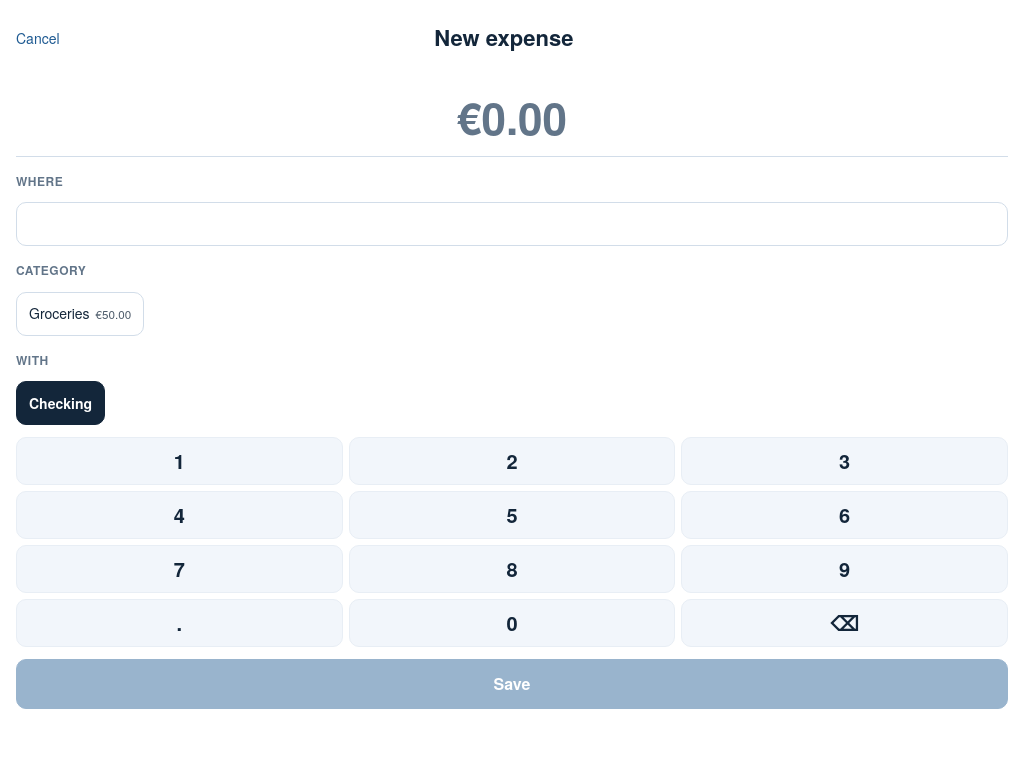
Test: QuickEntryOverlay (#367) › includes the payee when one is given
Expected: the heading "New expense" is shown, [434, 22, 573, 54]
Type "Supermarket" into the field named "Where" at (512, 224), box [16, 202, 1008, 246]
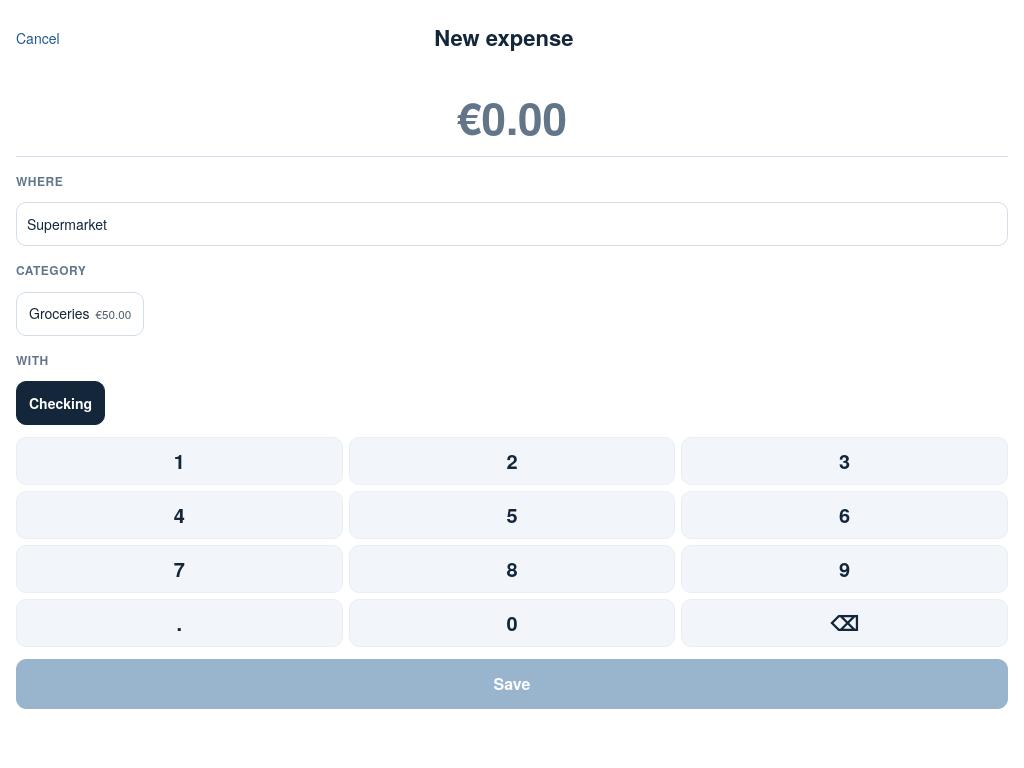
Click the button "5" at (512, 515), box [349, 491, 675, 539]
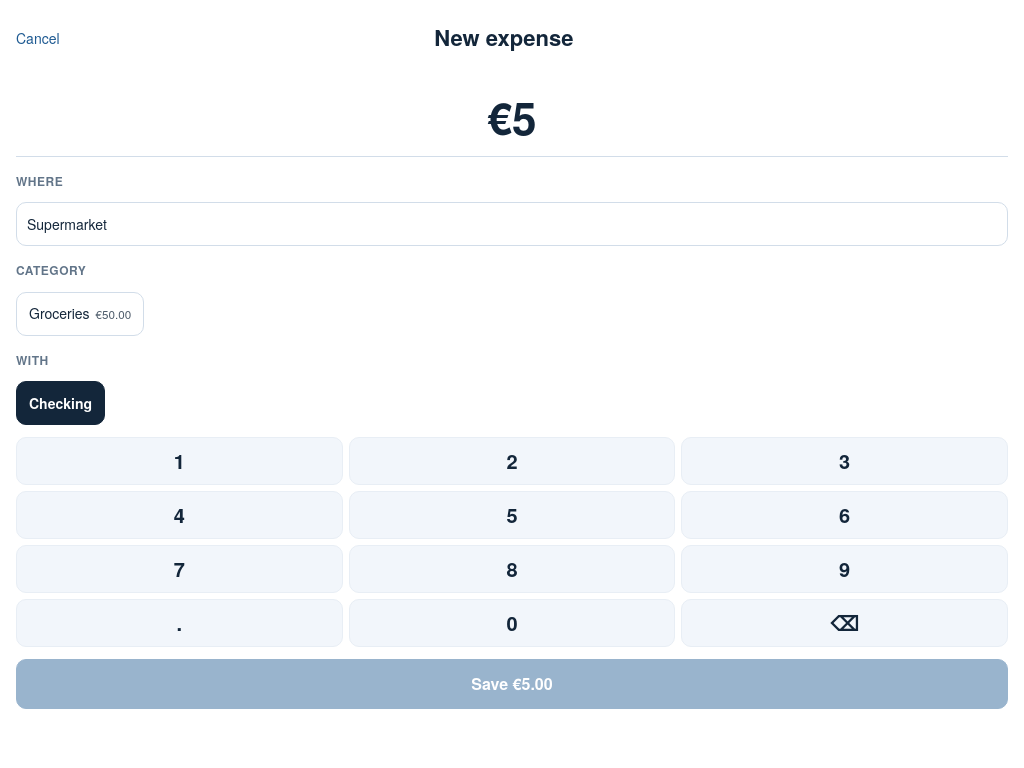
Click the button "Groceries€50.00" at (80, 314), box [16, 292, 144, 336]
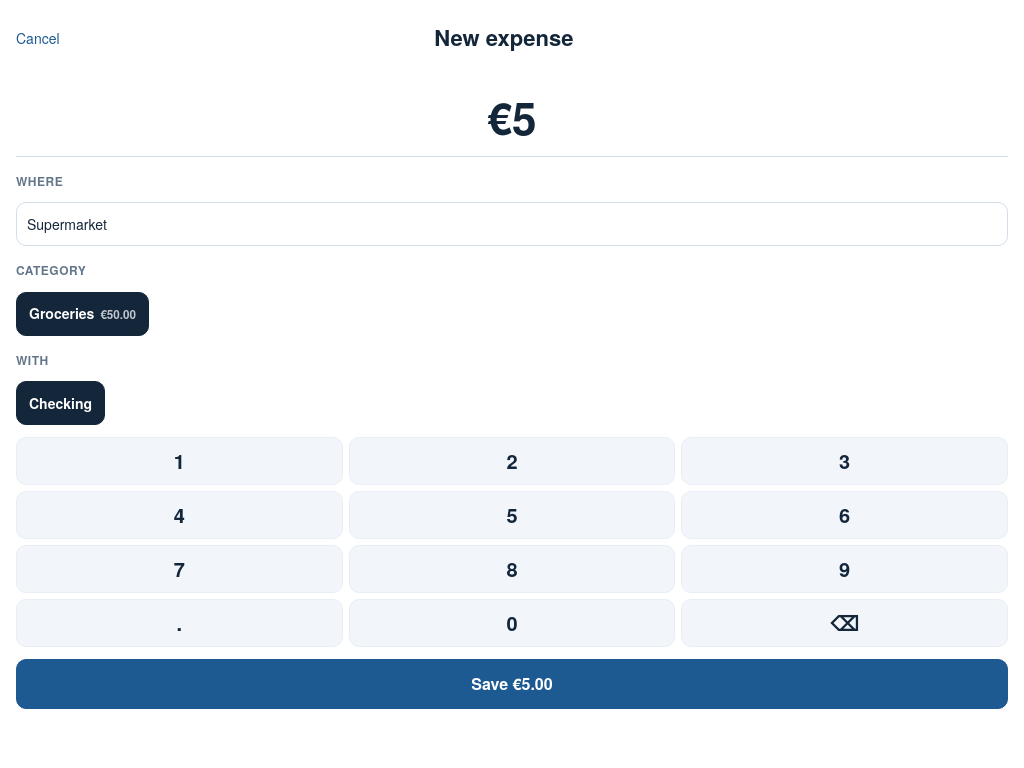
Click the button "Save €5.00" at (512, 684), box [16, 659, 1008, 709]
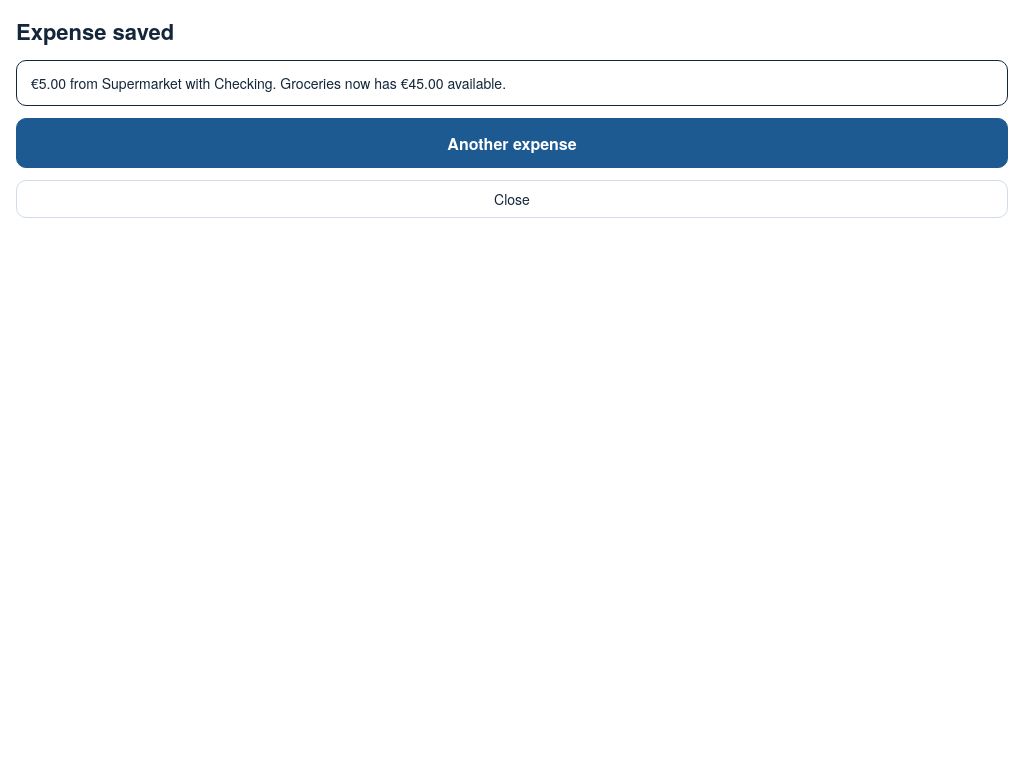
Expected: the heading "Expense saved" is shown, [16, 16, 174, 48]
Expected: the text with class "toast" shows "€5.00 from Supermarket with Checking.", [31, 73, 276, 93]
